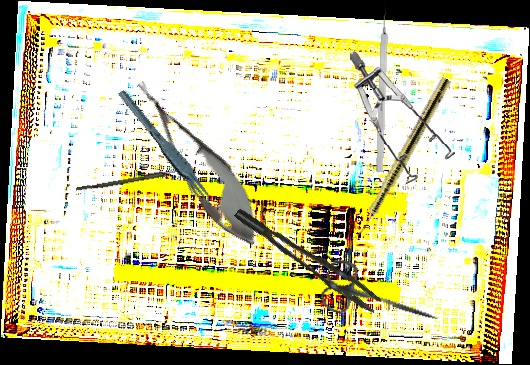Handpiece: (349, 75, 453, 245)
Hook Surgical: (376, 0, 389, 173)
Iris Scissors: (316, 256, 447, 342)
Micro Scissor: (119, 68, 277, 257)
Speculum: (350, 46, 456, 187)
Surgical Spoon: (75, 164, 197, 194)
Tissue Forceps: (233, 190, 384, 327), (117, 80, 215, 217)
